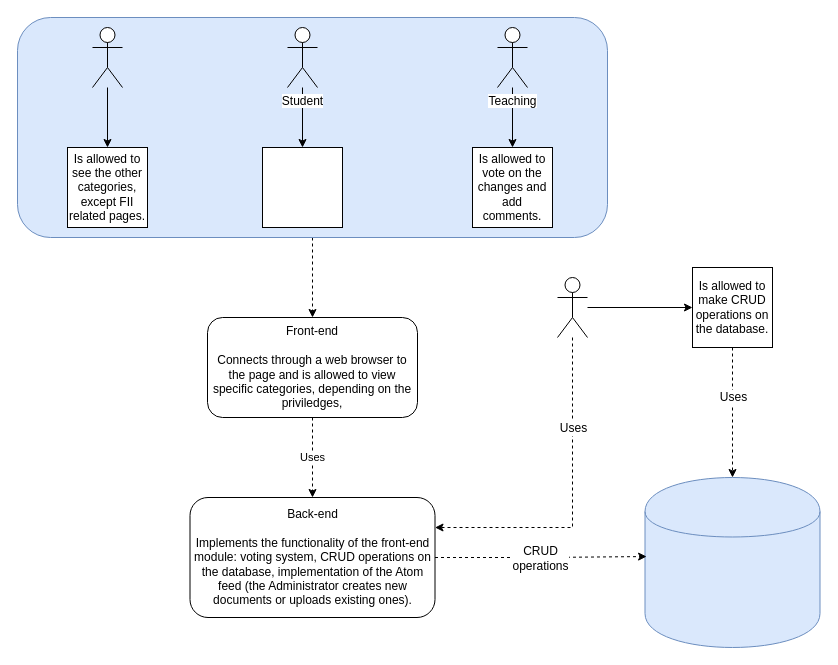
The diagram is 838 pixels wide and 665 high, and some of its shapes have lost their labels. The shapes that lost their labels are listed below. From the top down, each one's centre as x and y in pixels, then its label:
At point 107,57: "Visitor".
At point 302,187: "Is allowed to read the Administrator's posts.".
At point 572,307: "Administrator".
At point 732,562: "Database MySQL database for storing accounts and documents.".
